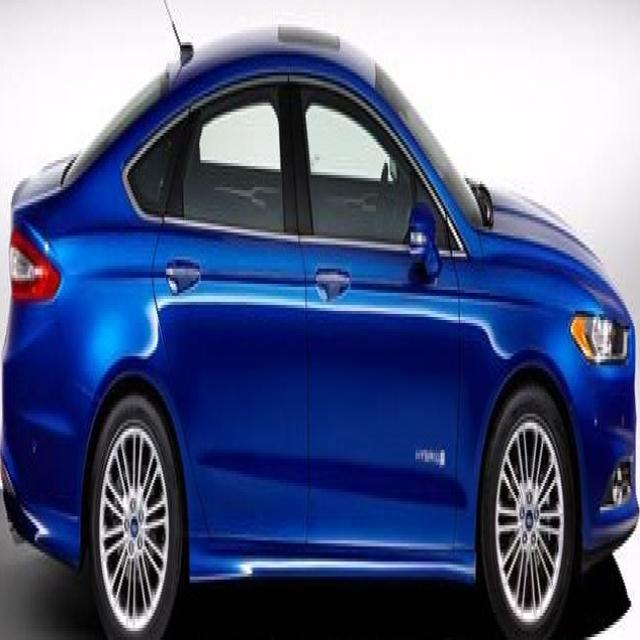blue: (5, 60, 640, 640)
